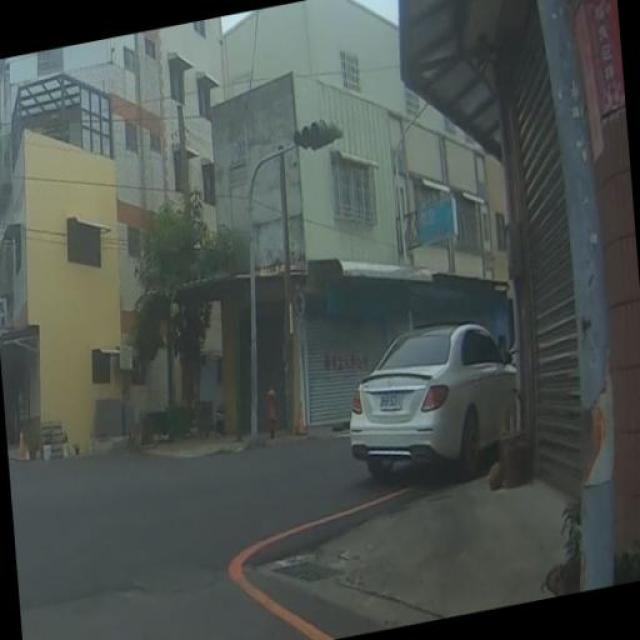illegalparking: (335, 312, 533, 514)
